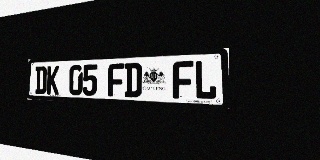0: (69, 65, 83, 96)
5: (83, 64, 97, 96)
D: (124, 63, 142, 97), (35, 66, 47, 94)
F: (173, 61, 193, 99), (108, 63, 124, 97)
K: (47, 66, 59, 95)
L: (194, 60, 217, 100)
